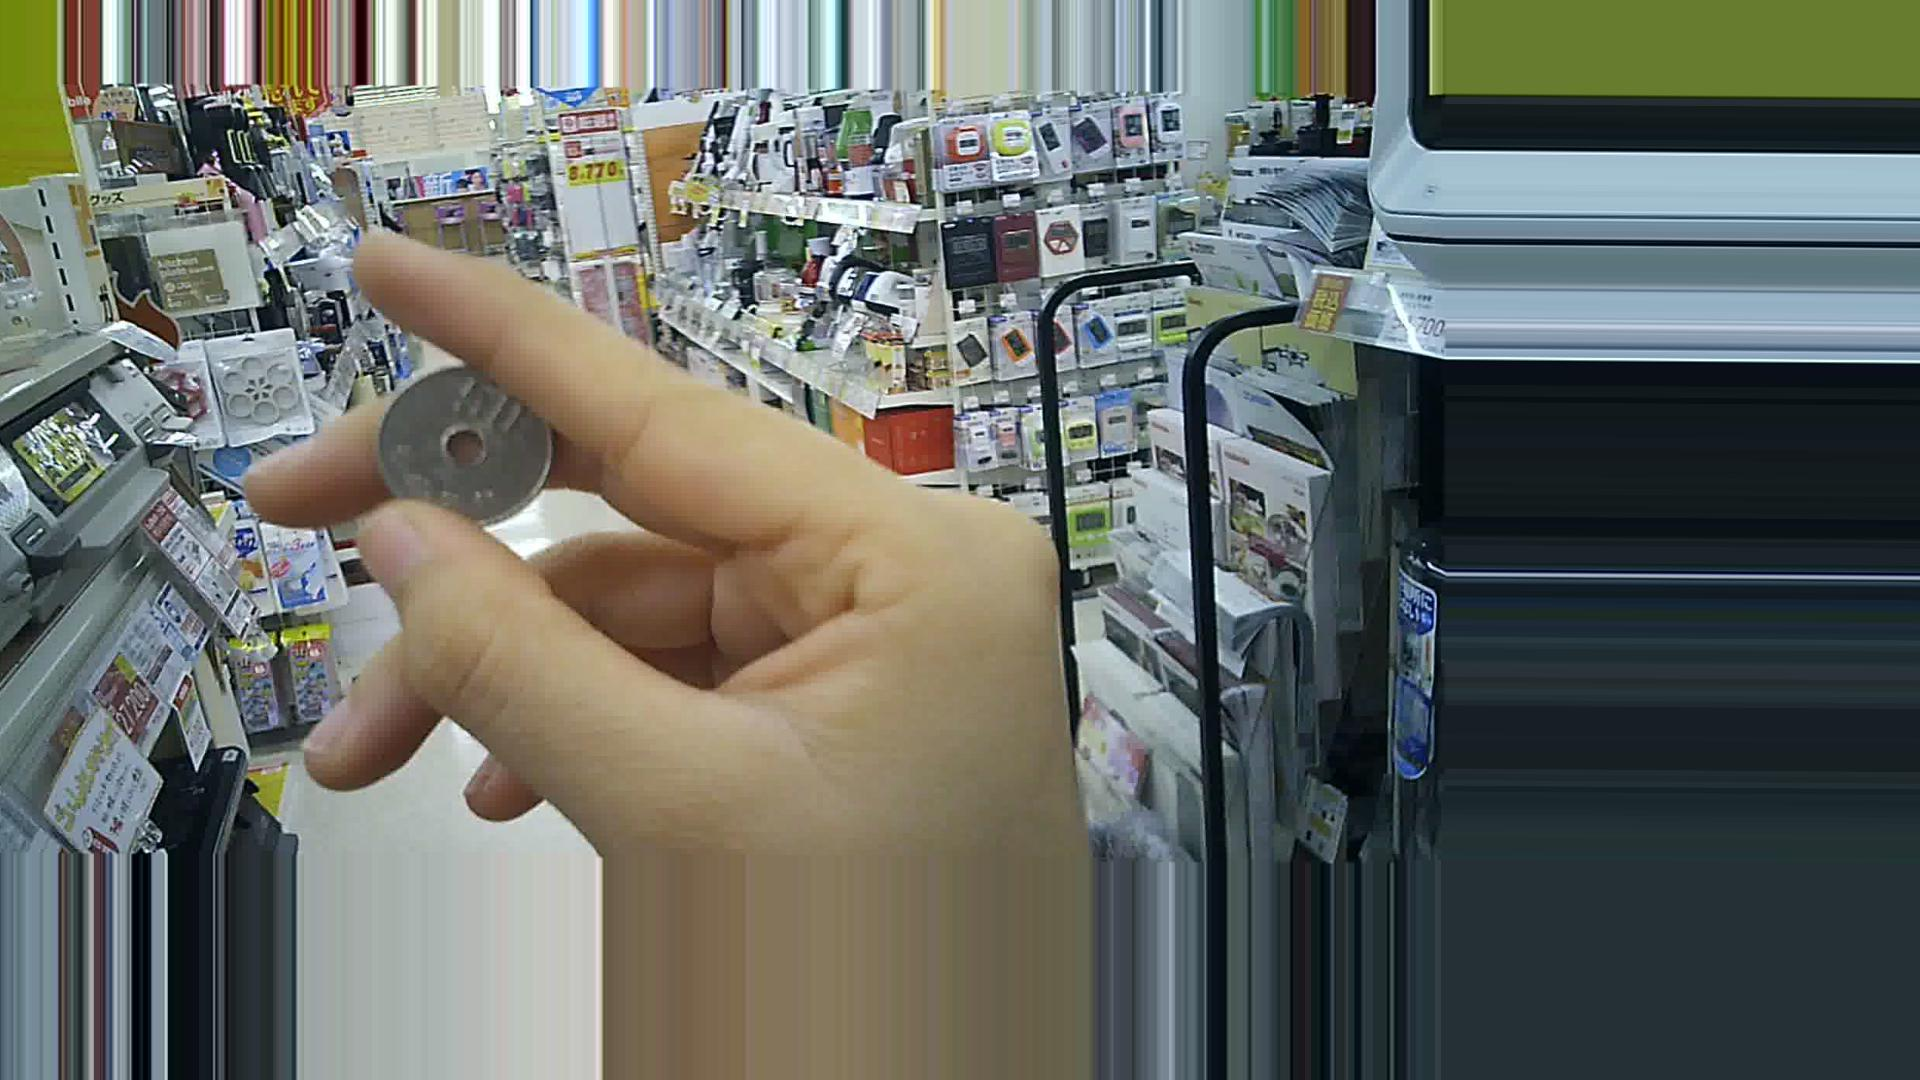50 Yen: (375, 353, 554, 530)
